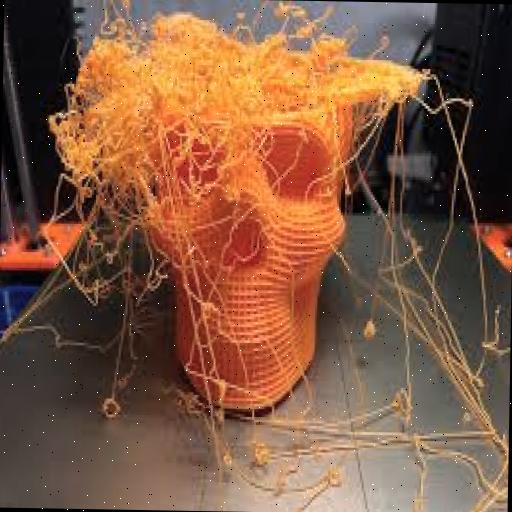spaghetti: (44, 0, 423, 182), (20, 170, 219, 450), (337, 114, 473, 501)
